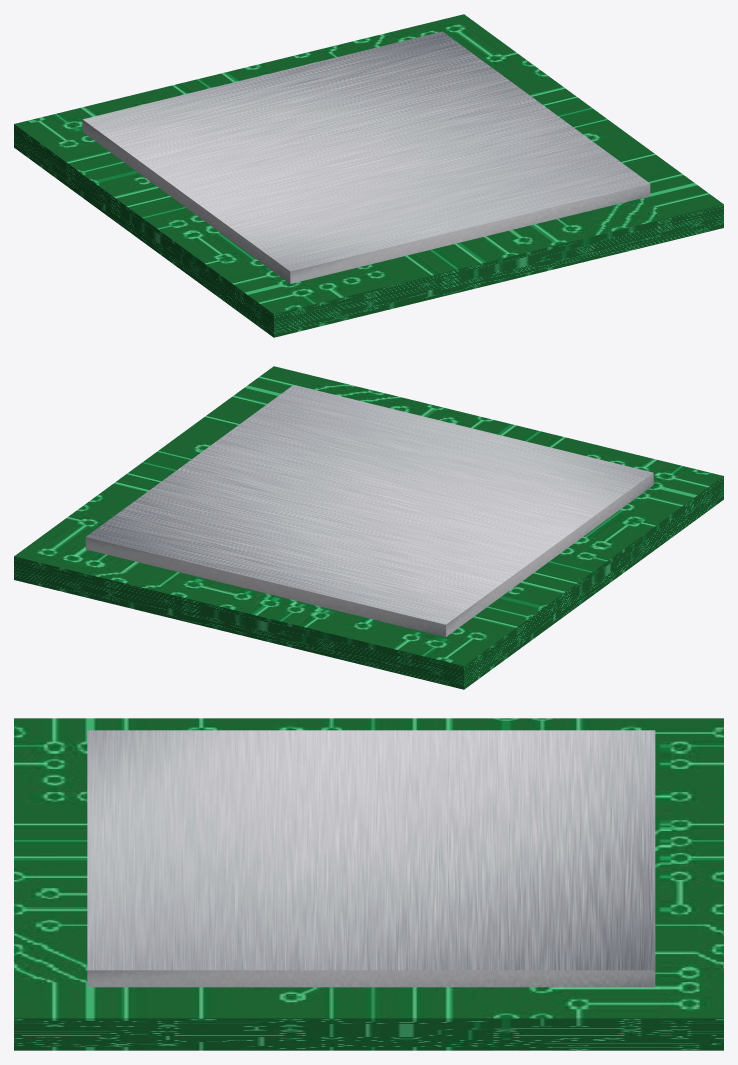
The model's file is processor.dae.
3 renders of one model, top to bottom at view 1: azimuth 30°, elevation 25°; view 2: azimuth 150°, elevation 25°; view 3: azimuth 270°, elevation 25°, orthographic. The views are drawn at different scales.
Visible parts, largest first — view 1: Cube_002, Cube_001; view 2: Cube_002, Cube_001; view 3: Cube_002, Cube_001.
Boxes of the visible parts, <box> form: Cube_002: <box>82,31,650,283</box>; Cube_001: <box>14,14,723,337</box>; Cube_002: <box>85,385,653,637</box>; Cube_001: <box>14,366,723,689</box>; Cube_002: <box>87,730,655,987</box>; Cube_001: <box>14,718,723,1050</box>.
Size of the model in its own units: 2 by 2 by 0.1528.
Materials: 2 (2 with a texture image).
